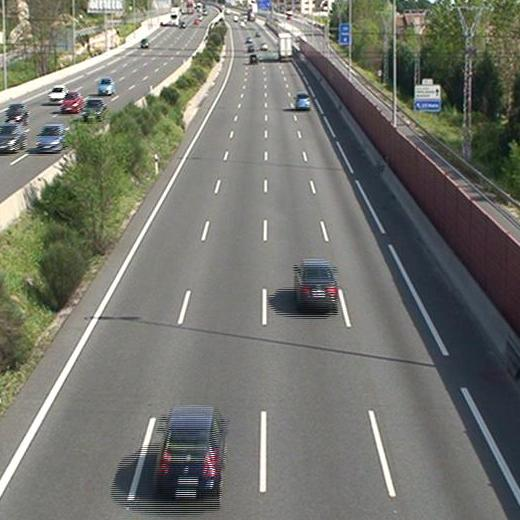car: (156, 407, 225, 495), (295, 260, 338, 311), (294, 93, 311, 108), (247, 53, 258, 63)
truck: (278, 32, 292, 62)
